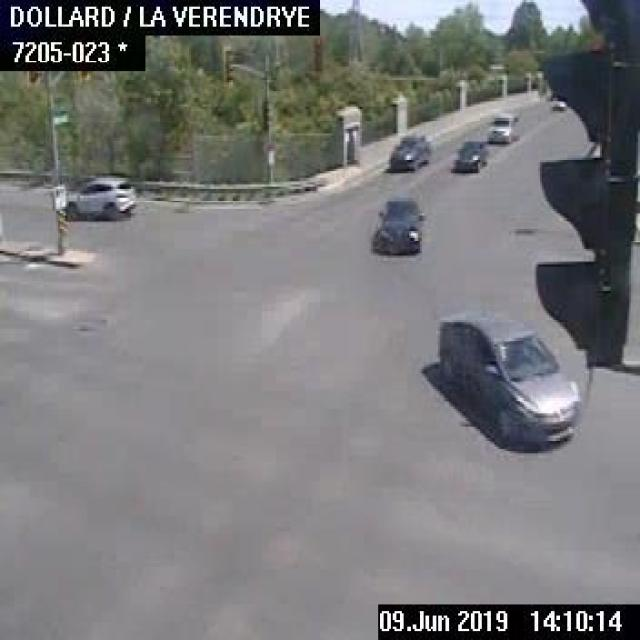vehicle: (433, 302, 580, 447), (67, 173, 135, 218), (371, 196, 422, 251), (384, 133, 429, 171), (449, 140, 487, 171), (487, 111, 520, 143), (548, 93, 566, 109)
